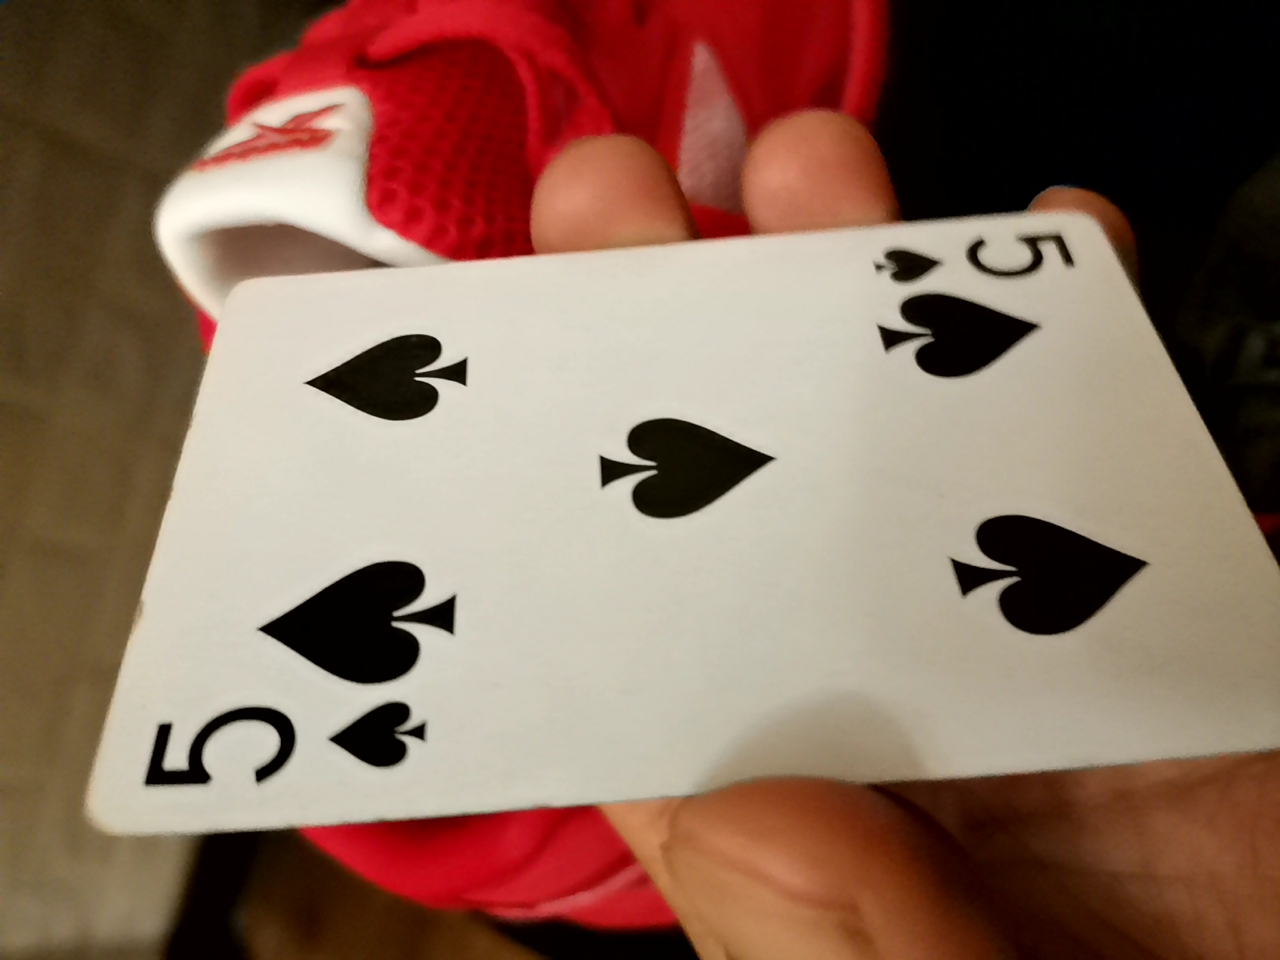ht 5: (104, 173, 1268, 875)
